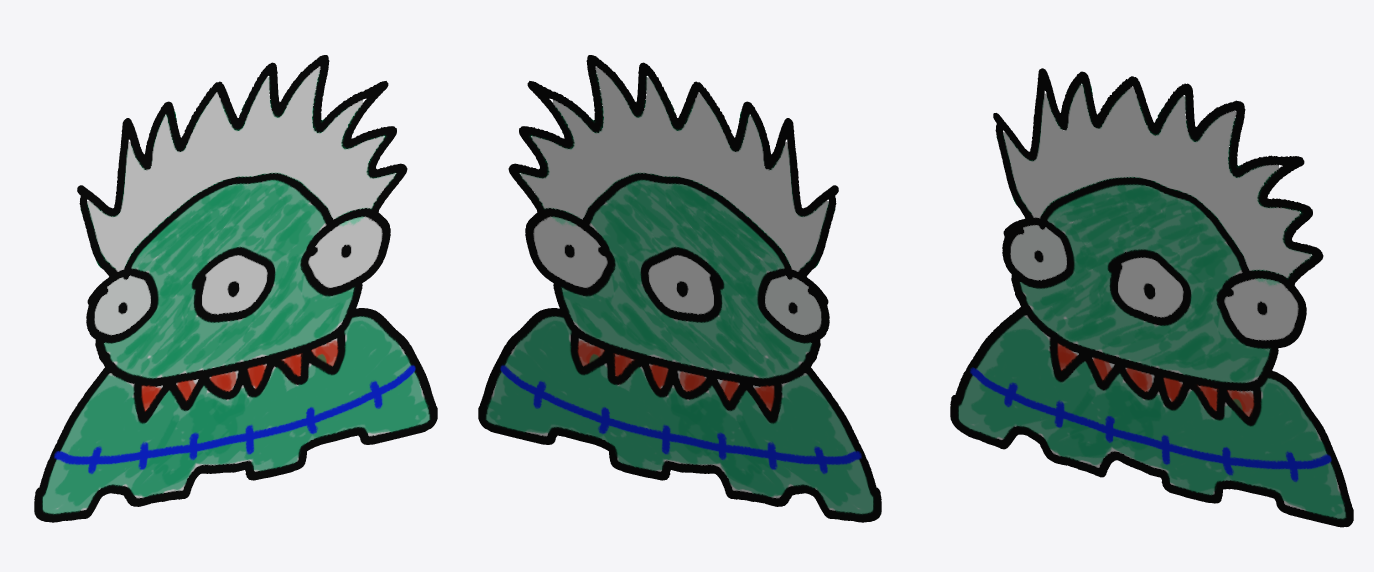
File: zhu@skin.FBX
3 views of the same model, side by side, from view 1: azimuth 30°, elevation 25°; view 2: azimuth 150°, elevation 25°; view 3: azimuth 330°, elevation 25° (orthographic).
Parts seen in each view (by area): view 1: Plane001; view 2: Plane001; view 3: Plane001.
Part boxes in pixels (left/top/right/bottom): Plane001: left=34, top=55, right=437, bottom=522; Plane001: left=478, top=55, right=881, bottom=522; Plane001: left=950, top=68, right=1353, bottom=527.
Size of the model in its own units: 16 by 15.65 by 4.99e-06.
